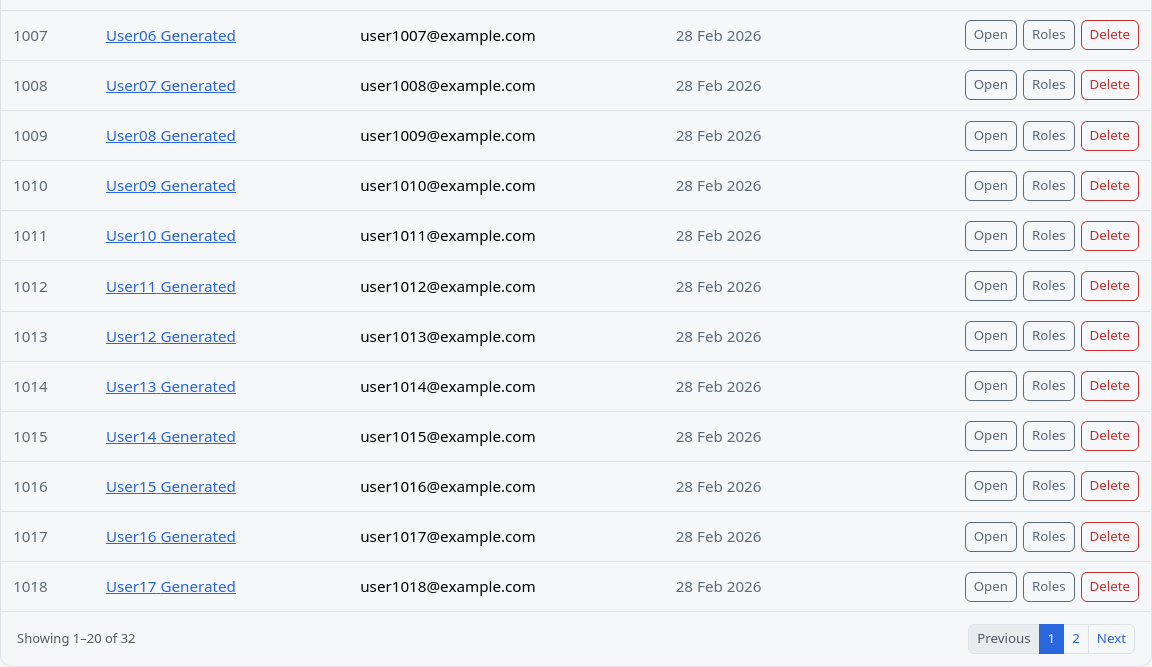
Test case: List screens › returns to the first page when a filter is applied
(page scrolled)
expect the text "Showing 1–20 of 32" is shown: met, box [17,630,136,649]
Click the button "Next" at (1111, 639), box [1088,624,1135,654]
(page scrolled)
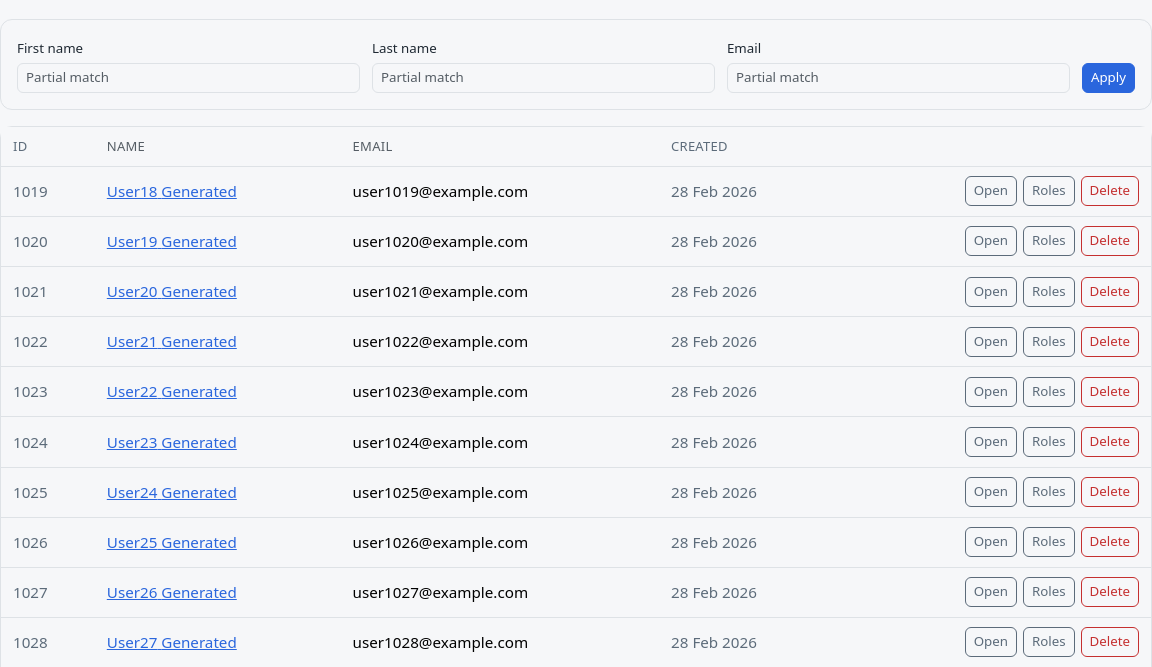
Type "ada@" into the field labelled "Email" at (898, 78), box [727,63,1070,93]
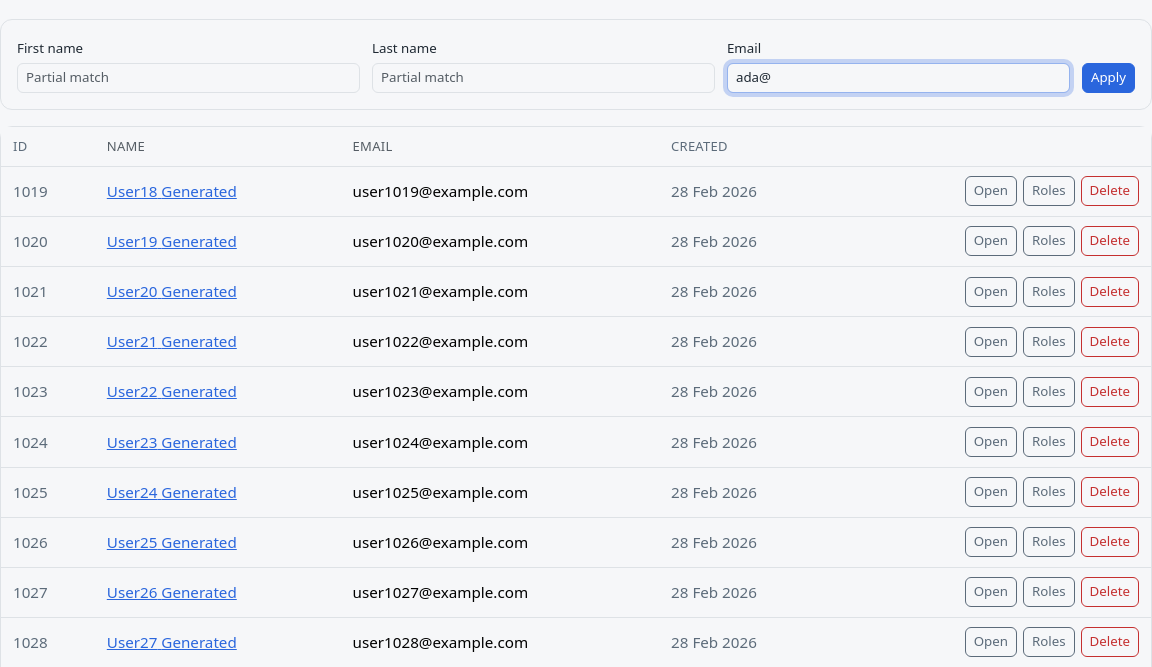
Click the button "Apply" at (1108, 78), box [1082,63,1135,93]
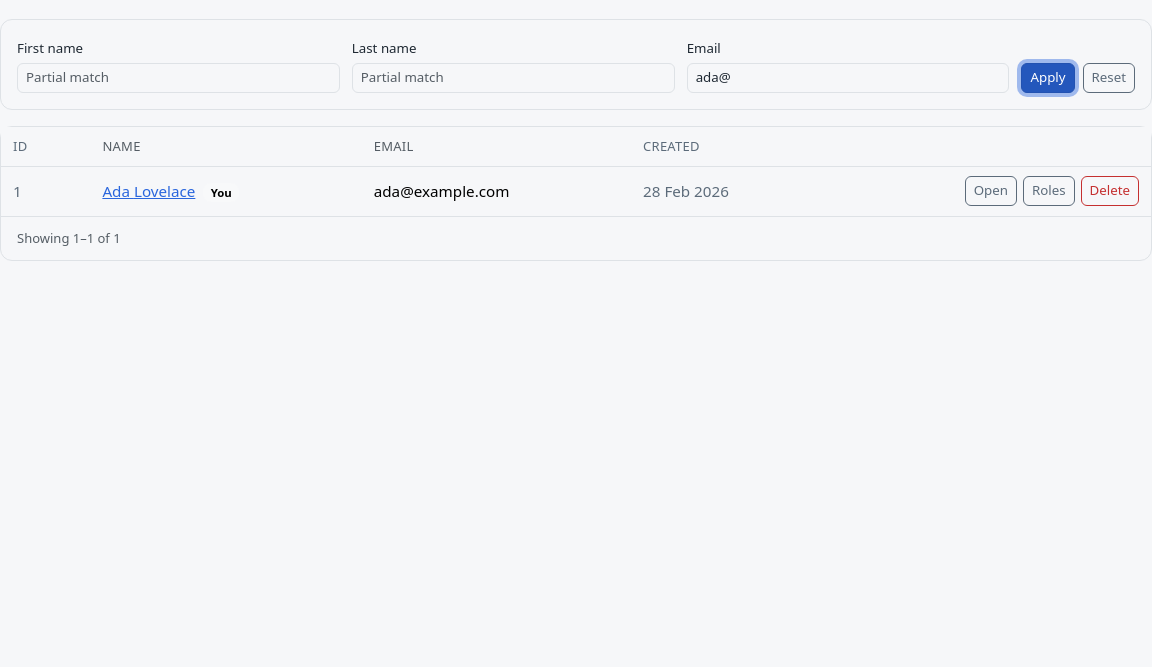
expect the text "Showing 1–1 of 1" is shown: met, box [17,229,121,248]
